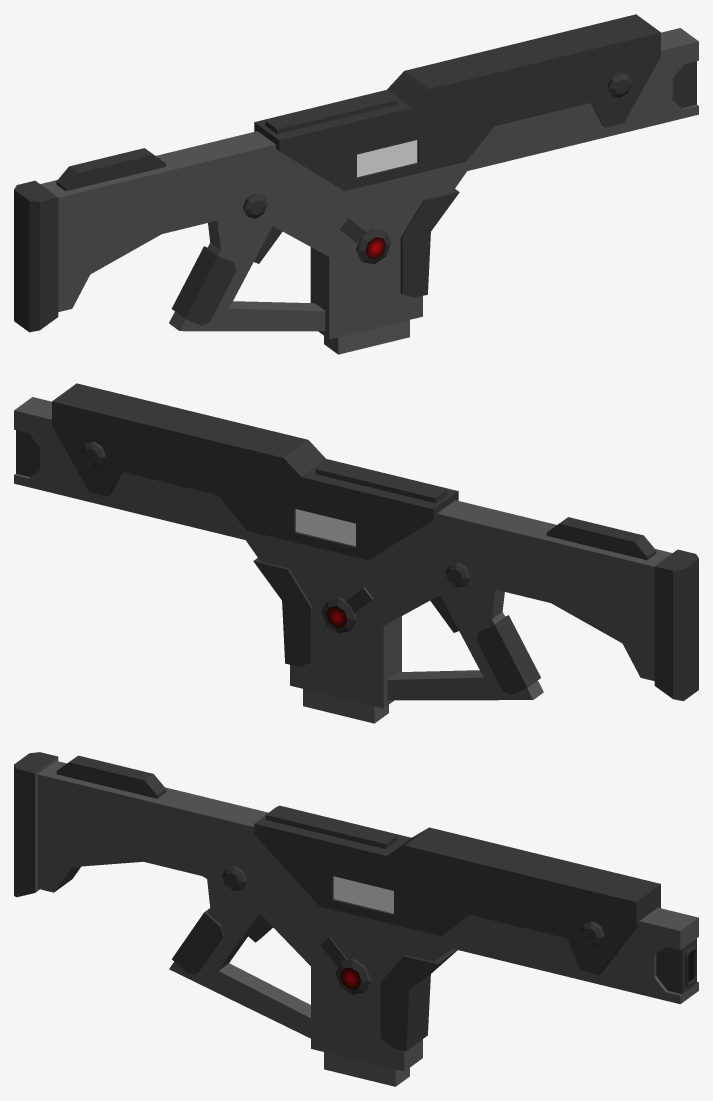
Rendered from Rifle_G_V1.FBX.
The picture shows the model from 3 angles, top to bottom: view 1: azimuth 30°, elevation 25°; view 2: azimuth 150°, elevation 25°; view 3: azimuth 330°, elevation 25°; orthographic projection.
Parts seen in each view (by area): view 1: Rifle_G_V1, Magazine; view 2: Rifle_G_V1, Magazine; view 3: Rifle_G_V1, Magazine.
Part boxes in pixels (x1,y1,x2,y2): Rifle_G_V1: (14, 14, 698, 339); Magazine: (324, 320, 409, 354); Rifle_G_V1: (14, 383, 698, 708); Magazine: (303, 689, 388, 723); Rifle_G_V1: (14, 752, 698, 1071); Magazine: (324, 1052, 409, 1086).
Size of the model in its own units: 361 by 128 by 29.83.
